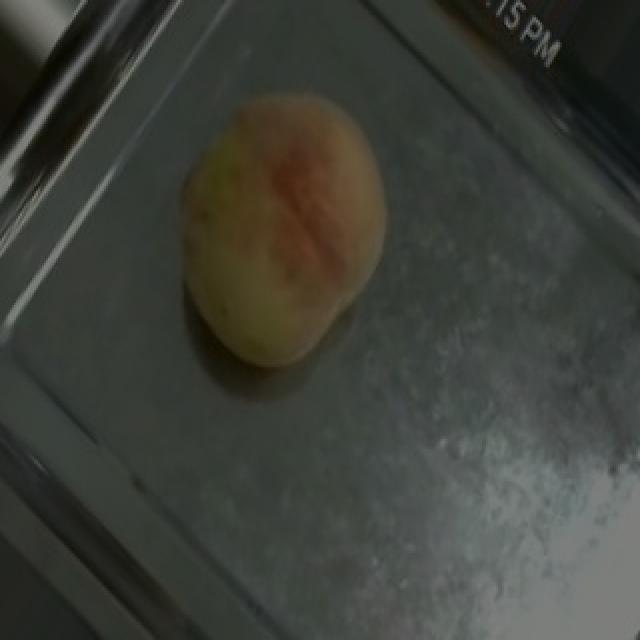Fruit: (124, 47, 440, 407)
